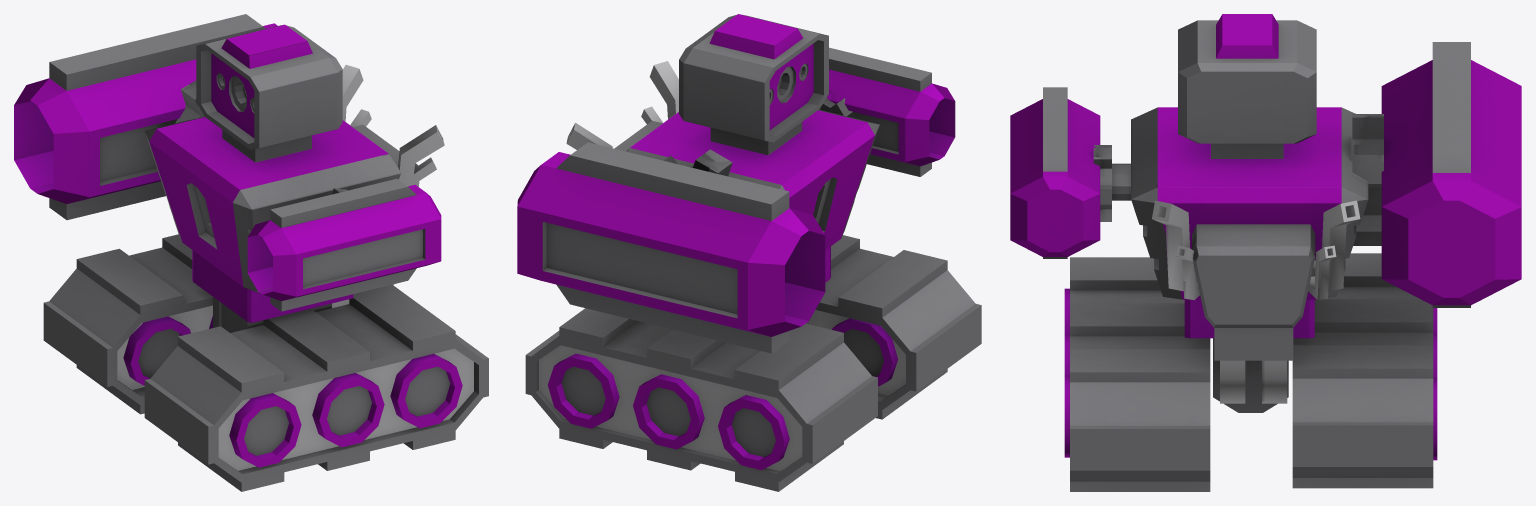
Rendered from Enemy2_Move4.obj.
3 views of the same model, side by side, from view 1: azimuth 30°, elevation 25°; view 2: azimuth 150°, elevation 25°; view 3: azimuth 270°, elevation 25° (orthographic). The views are drawn at different scales.
Visible parts, largest first — view 1: Object006, Object007, Object010, Object009; view 2: Object006, Object007, Object010, Object009; view 3: Object006, Object007, Object010, Object009, Object008.
Part boxes in pixels (<box>): Object006: <box>14,14,488,491</box>; Object007: <box>144,24,400,332</box>; Object010: <box>332,65,444,307</box>; Object009: <box>175,80,204,123</box>; Object006: <box>517,47,981,491</box>; Object007: <box>627,14,879,324</box>; Object010: <box>566,61,678,151</box>; Object009: <box>664,149,732,176</box>; Object006: <box>1010,42,1521,491</box>; Object007: <box>1131,14,1368,412</box>; Object010: <box>1152,200,1360,403</box>; Object009: <box>1352,114,1383,245</box>; Object008: <box>1093,145,1131,221</box>.
Bounding box in the file's own units: 87.45 × 109 × 125.
